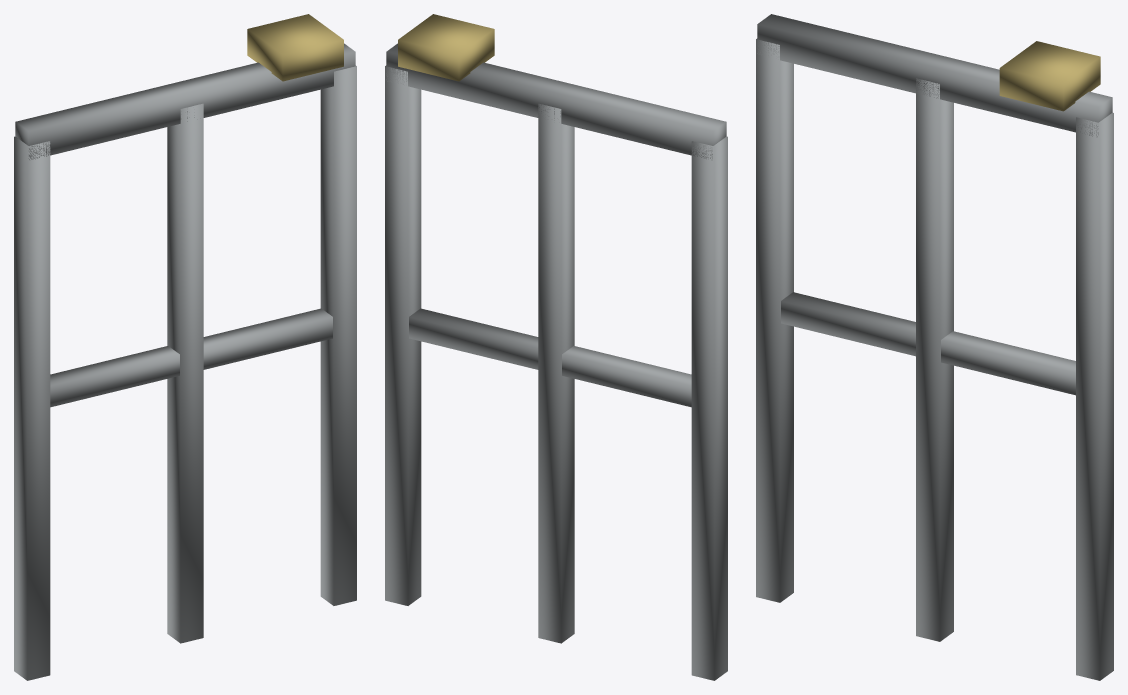
Rendered from residential_portal_break_l60.glb.
The picture shows the model from 3 angles, left to right: view 1: azimuth 30°, elevation 25°; view 2: azimuth 150°, elevation 25°; view 3: azimuth 330°, elevation 25°; orthographic projection. The views are drawn at different scales.
Parts seen in each view (by area): view 1: world; view 2: world; view 3: world.
Part boxes in pixels (x1=…): world: x1=14, y1=14, x2=356, y2=680; world: x1=385, y1=14, x2=727, y2=680; world: x1=756, y1=14, x2=1113, y2=680.
Bounding box in the file's own units: 0.645 × 1.08 × 0.12.
